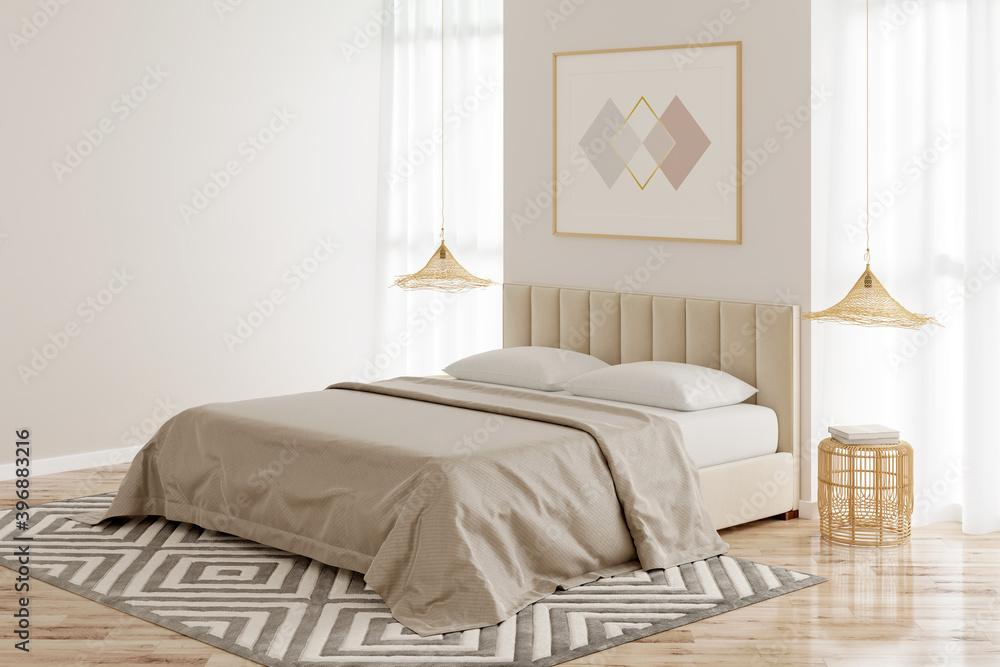bed: (124, 317, 773, 513)
